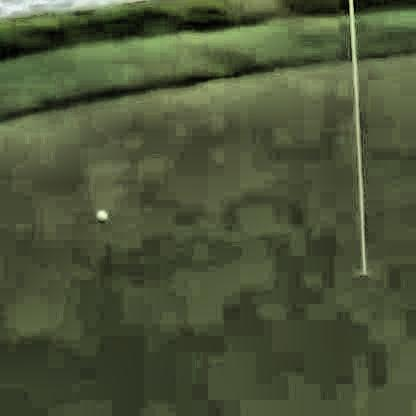golfball: (91, 208, 107, 221)
